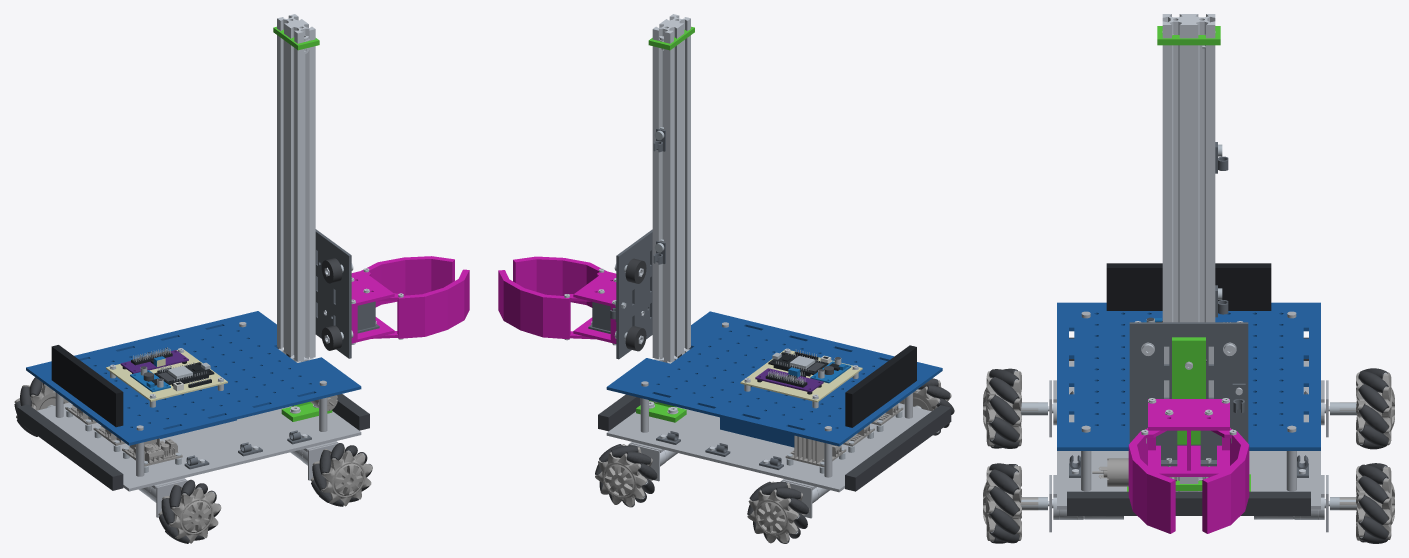
The model's file is transporter.glb.
3 views of the same model, side by side, from view 1: azimuth 30°, elevation 25°; view 2: azimuth 150°, elevation 25°; view 3: azimuth 270°, elevation 25° (orthographic). The views are drawn at different scales.
Visible parts, largest first — view 1: Upper deck - removable, Component 23, Chassis - 260 x 200 x 3, V2 Gripper bottom tray, Cap, V2 GT2 pulley (1), V2 GT2 belt run, Bumper, Rear electronics guard, Main PCB - measured 86.06 x 87.44, V2 Pulley flange (2), Purple module IC (+1 smaller); view 2: Upper deck - removable, Component 23, Chassis - 260 x 200 x 3, V2 Gripper bottom tray, Cap, V2 GT2 pulley (1), V2 GT2 belt run, Bumper, Rear electronics guard, Main PCB - measured 86.06 x 87.44, V2 Pulley flange (2), Purple module IC (+2 smaller); view 3: Upper deck - removable, Component 23, V2 Gripper bottom tray, V2 GT2 pulley (1), V2 GT2 belt run, Chassis - 260 x 200 x 3, Cap, Rear electronics guard, Bumper, V2 Lifter mounting foot -1, V2 Pulley flange (2).
Part boxes in pixels (box(x1,y1,x2,y2)): Upper deck - removable: box(26, 311, 361, 445); Component 23: box(31, 14, 403, 542); Chassis - 260 x 200 x 3: box(37, 322, 361, 517); V2 Gripper bottom tray: box(351, 256, 469, 343); Cap: box(14, 383, 372, 543); V2 GT2 pulley (1): box(184, 229, 379, 469); V2 GT2 belt run: box(14, 258, 372, 543); Bumper: box(17, 347, 369, 490); Rear electronics guard: box(51, 345, 123, 427); Main PCB - measured 86.06 x 87.44: box(106, 349, 227, 401); V2 Pulley flange (2): box(47, 264, 343, 472); Purple module IC: box(122, 351, 214, 387); Upper deck - removable: box(606, 311, 942, 447); Component 23: box(564, 14, 940, 542); Chassis - 260 x 200 x 3: box(606, 322, 931, 518); V2 Gripper bottom tray: box(498, 256, 616, 343); Cap: box(595, 380, 951, 543); V2 GT2 pulley (1): box(588, 128, 783, 469); V2 GT2 belt run: box(595, 258, 954, 543); Bumper: box(598, 348, 951, 491); Rear electronics guard: box(845, 345, 916, 427); Main PCB - measured 86.06 x 87.44: box(740, 350, 862, 402); V2 Pulley flange (2): box(621, 127, 921, 473); Purple module IC: box(757, 352, 839, 394); Upper deck - removable: box(1057, 302, 1320, 450); Component 23: box(990, 14, 1387, 541); V2 Gripper bottom tray: box(1128, 399, 1249, 533); V2 GT2 pulley (1): box(1069, 142, 1308, 477); V2 GT2 belt run: box(989, 368, 1388, 543); Chassis - 260 x 200 x 3: box(1049, 311, 1328, 532); Cap: box(983, 371, 1394, 540); Rear electronics guard: box(1106, 263, 1271, 310); Bumper: box(1067, 337, 1310, 515); V2 Lifter mounting foot -1: box(1127, 26, 1250, 491); V2 Pulley flange (2): box(1021, 144, 1356, 510).
Size of the model in its own units: 0.4447 by 0.4497 by 0.3124.
